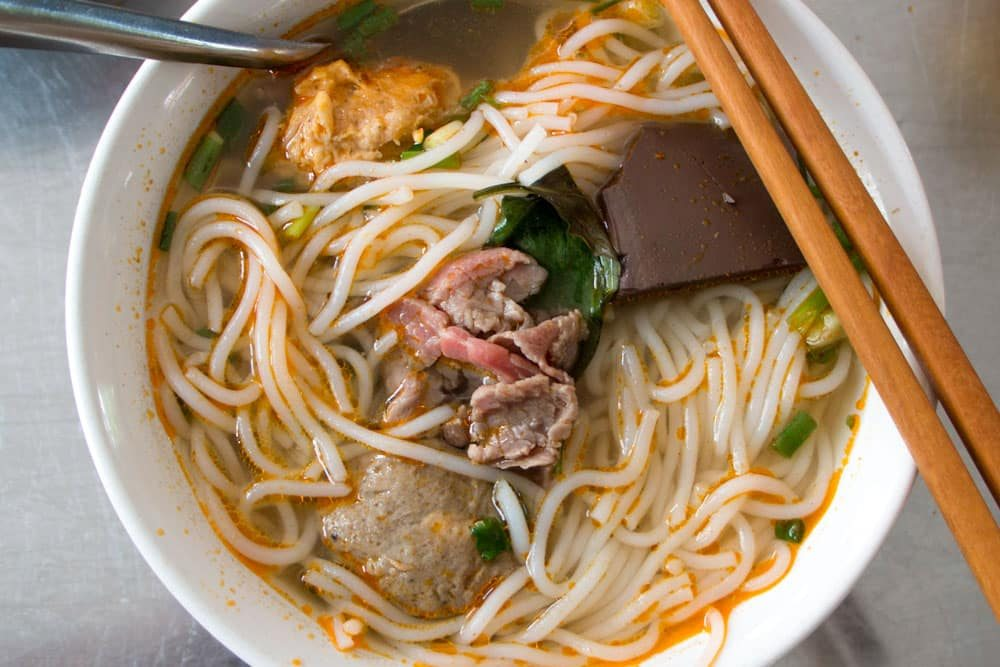beef: (426, 252, 583, 445)
